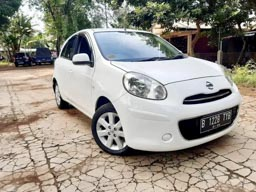plat: (198, 109, 230, 134)
